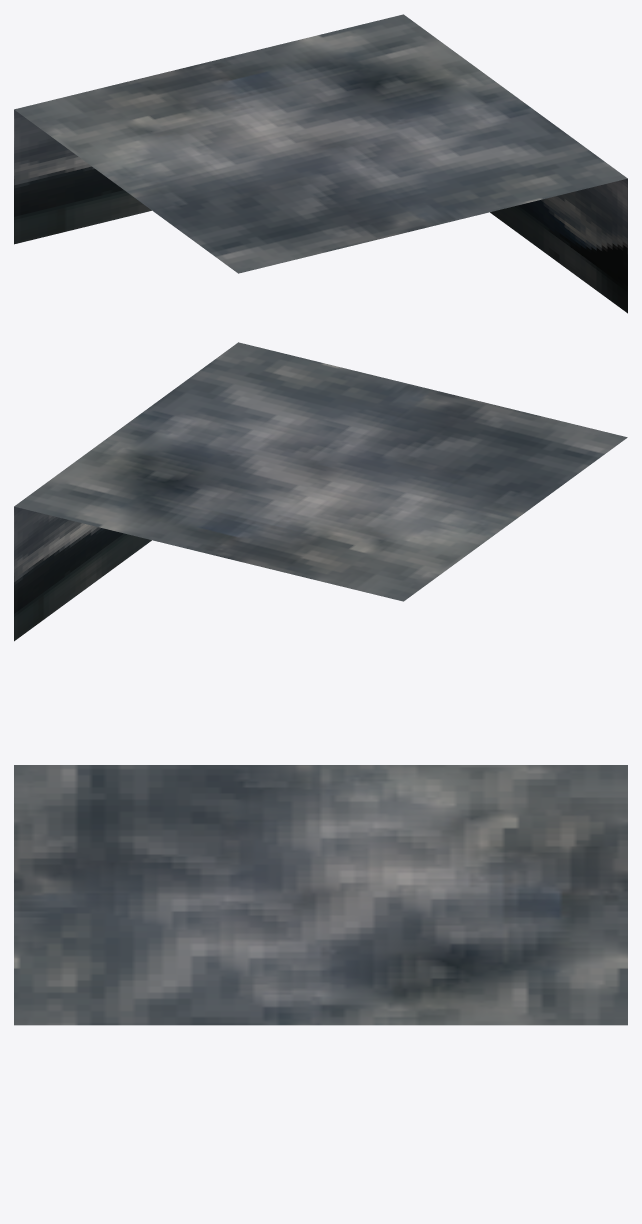
File: env_skybox.glb
3 renders of one model, top to bottom at view 1: azimuth 30°, elevation 25°; view 2: azimuth 150°, elevation 25°; view 3: azimuth 270°, elevation 25°, orthographic. The views are drawn at different scales.
Visible parts, largest first — view 1: env_skybox; view 2: env_skybox; view 3: env_skybox.
Boxes of the visible parts, <box> form: env_skybox: <box>14,14,627,313</box>; env_skybox: <box>14,342,627,641</box>; env_skybox: <box>14,765,627,1025</box>.
Size of the model in its own units: 0.065 by 0.0215 by 0.0648.
2 materials, 2 textured.
